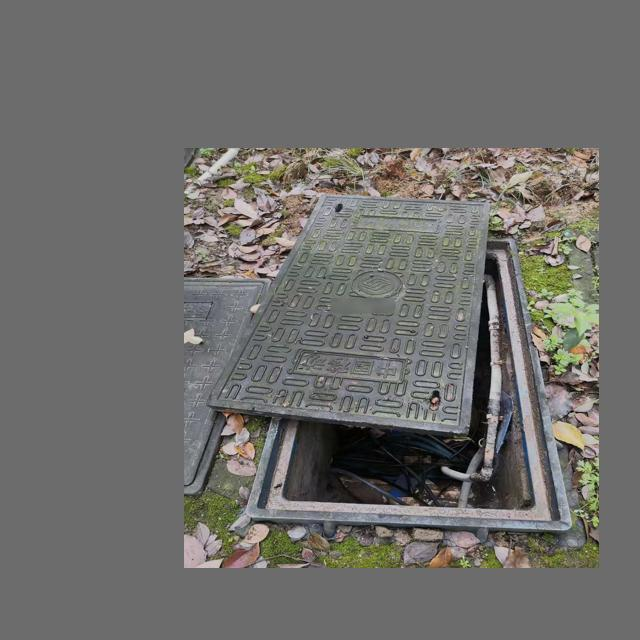uncovered: (212, 191, 582, 550)
